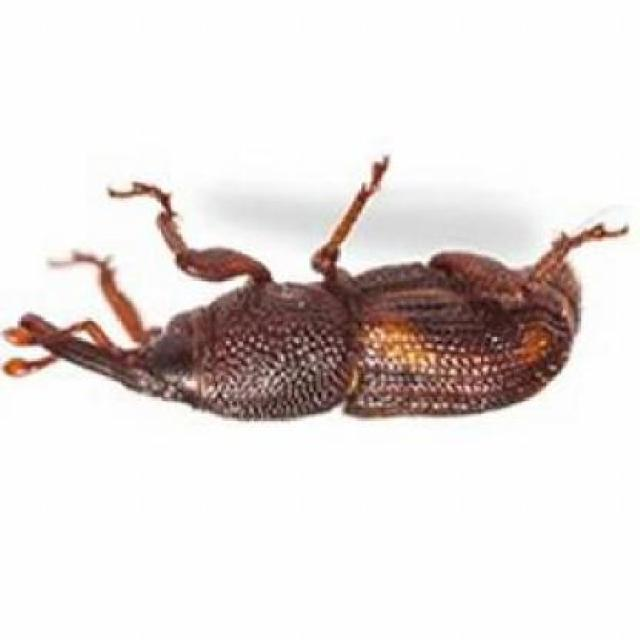rice-bug: (4, 187, 630, 422)
